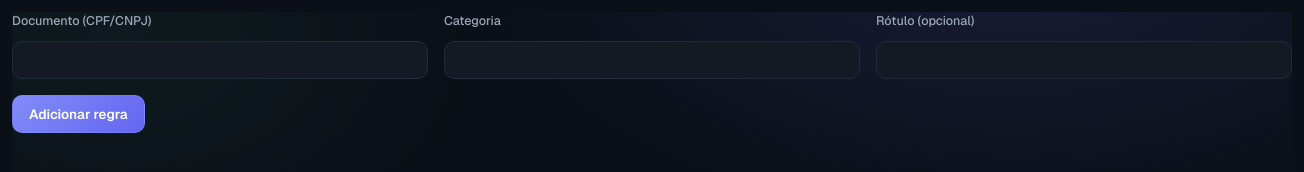
AddCategoryRuleForm - sucesso (secao 3, 'DADO um CPF/CNPJ e uma categoria QUANDO crio uma regra') › mostra confirmacao e LIMPA o campo de documento apos sucesso (higiene de privacidade)
In the field labelled "Documento (CPF/CNPJ)": (220, 60) [12,41,428,79], type "12.345.678/0001-95"
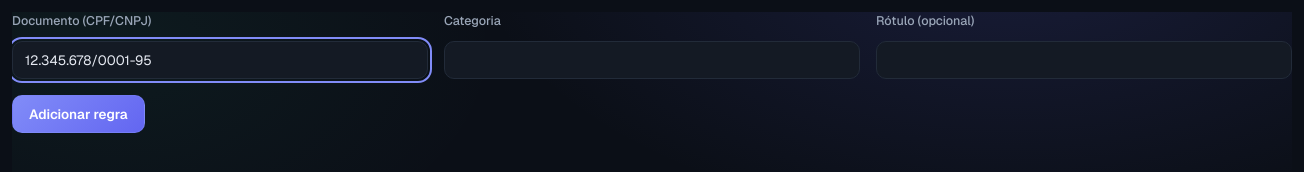
In the field labelled "Categoria": (652, 60) [444,41,860,79], type "Mercado"
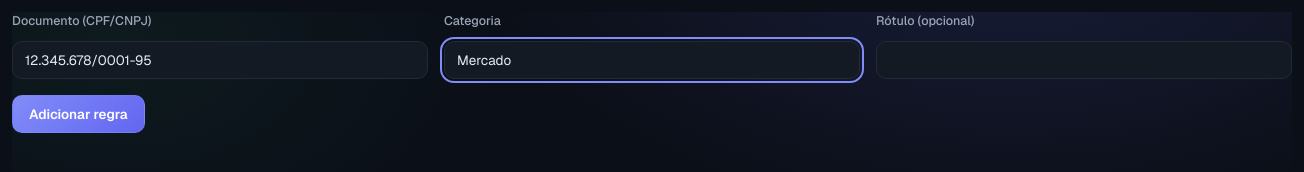
Click the button "Adicionar regra": (78, 114) [12,95,145,133]
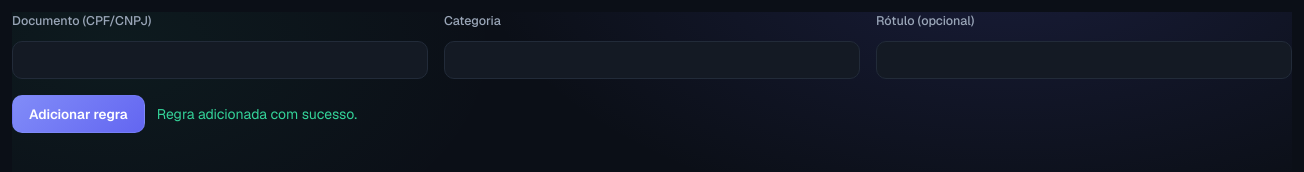
Result: the text "Regra adicionada com sucesso." is shown at [157,104,357,124]
Result: the field labelled "Documento (CPF/CNPJ)" is empty at [12,41,428,79]
